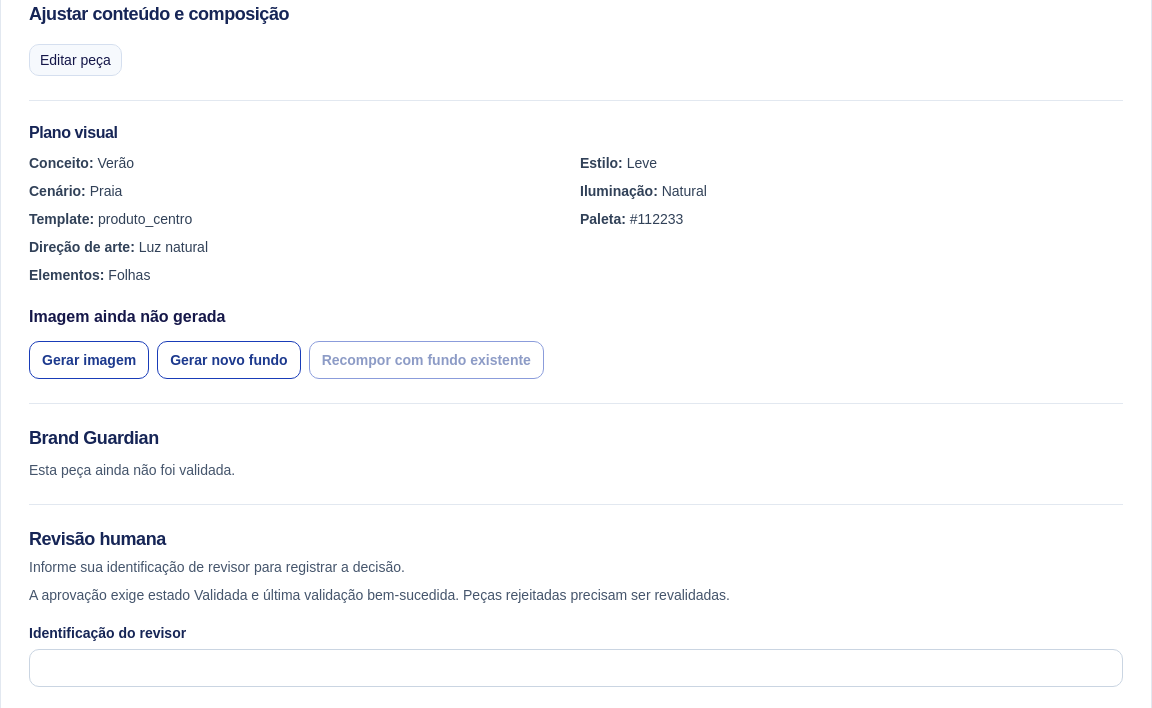
Test case: detalhe da campanha › inicia renderização uma vez, com request_id, e impede clique duplo
(page scrolled)
Expected: the text "Imagem ainda não gerada" is shown, x1=29 y1=308 x2=226 y2=325
Double-click the button "Gerar imagem".
double_click(89, 360)  # box x1=29 y1=341 x2=149 y2=379
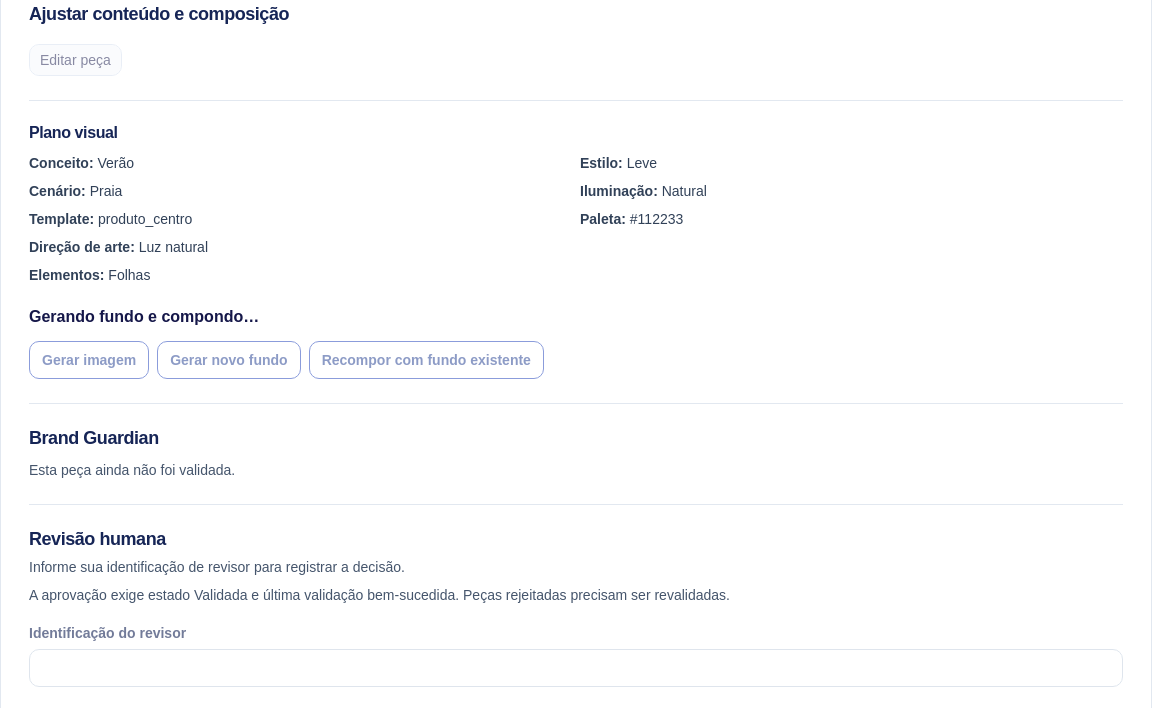
Now the text "Gerando fundo e compondo…" is shown, box x1=29 y1=308 x2=259 y2=325
